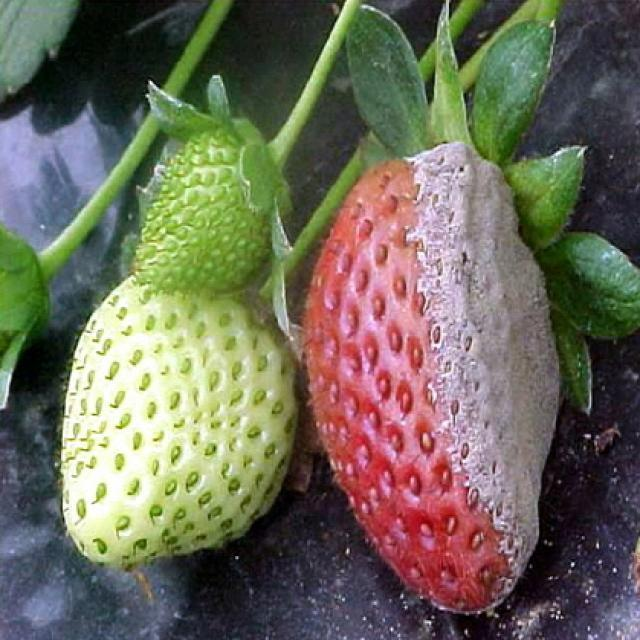Gray Mold: (299, 143, 561, 617)
